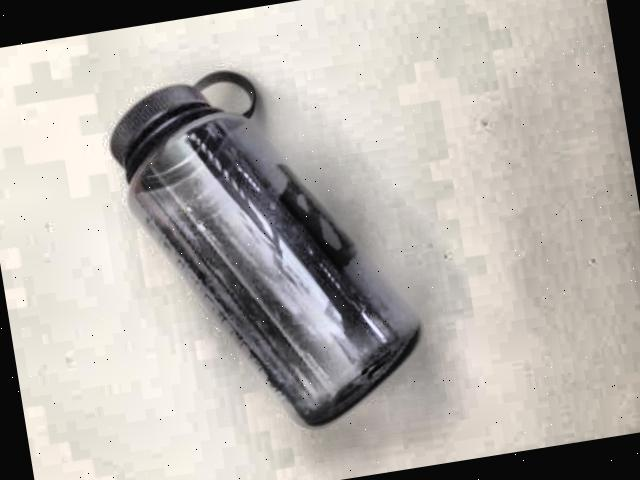Plastic: (84, 27, 447, 459)
